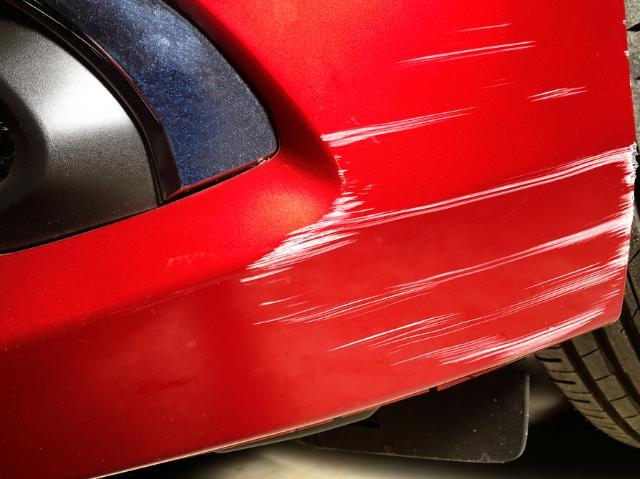Bumper: (245, 20, 640, 362)
